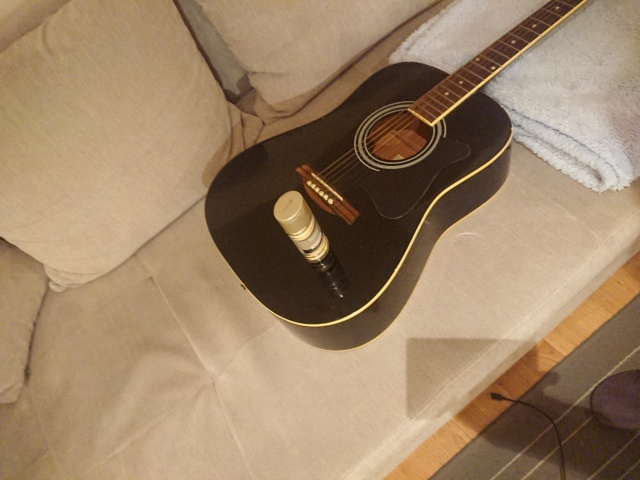Kotanyi Garlic Granules 70g: (270, 188, 333, 266)
